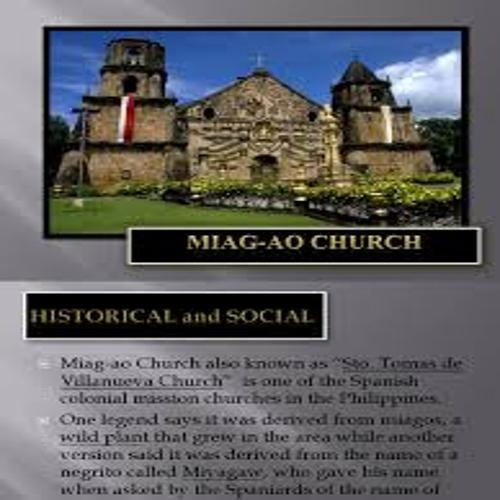Miagao Church: (64, 38, 436, 201)
